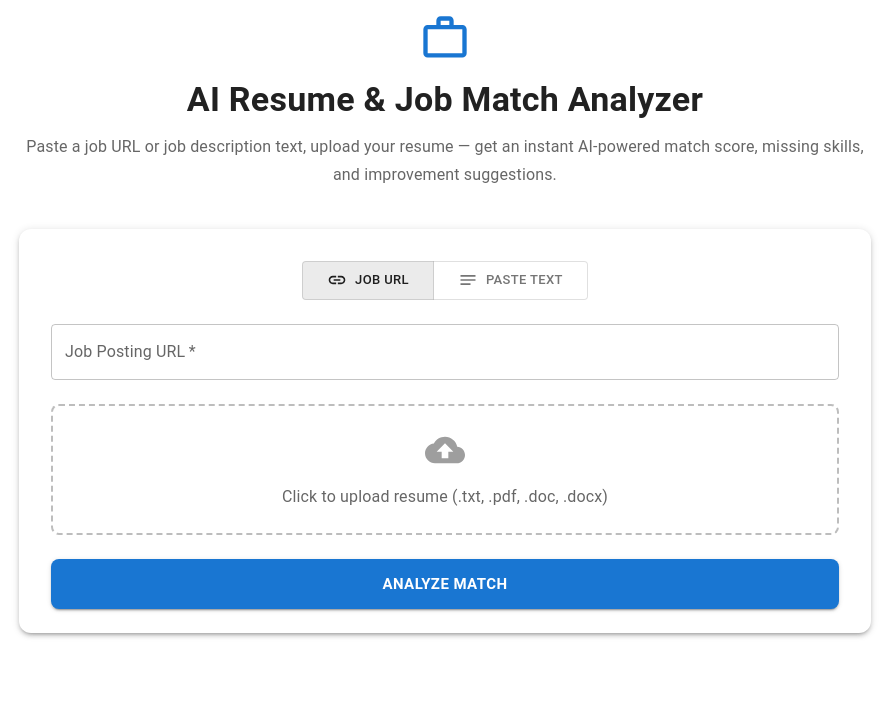
it: ResumeAnalyzer › shows error when job URL is empty on submit
This screenshot has width=891, height=719.
What coordinates should you click on to do the following:
click the button "Analyze Match"
I would click on:
 (445, 584)
Its box is x1=51 y1=559 x2=839 y2=609.
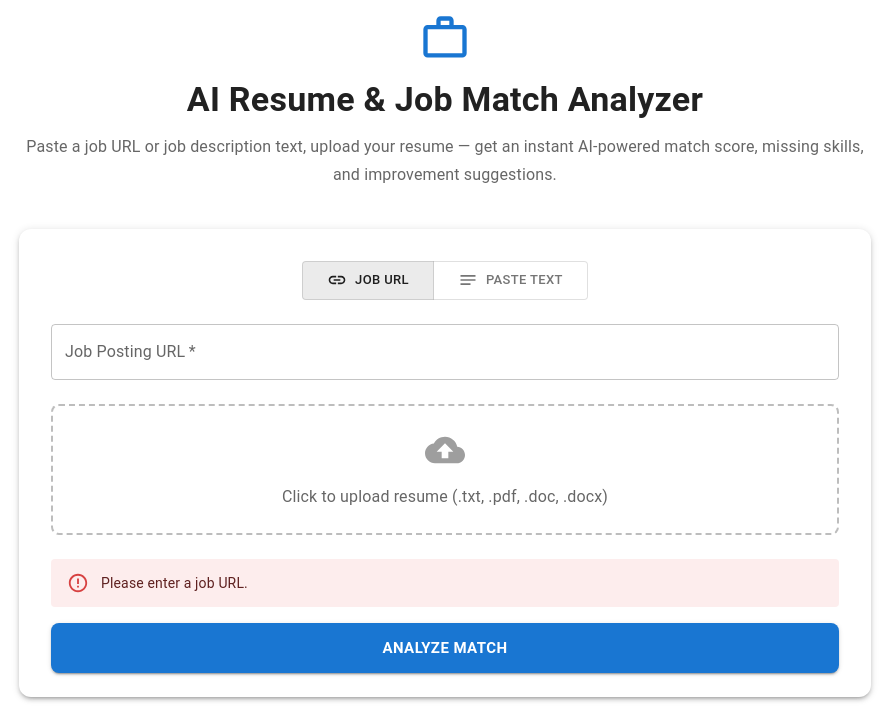
Expected: the text "Please enter a job URL." is shown, x1=101 y1=575 x2=248 y2=591
